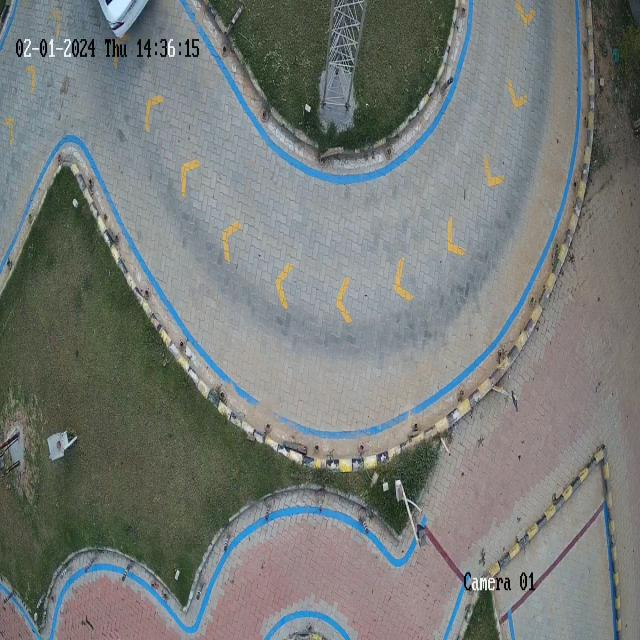car: (94, 0, 150, 35)
